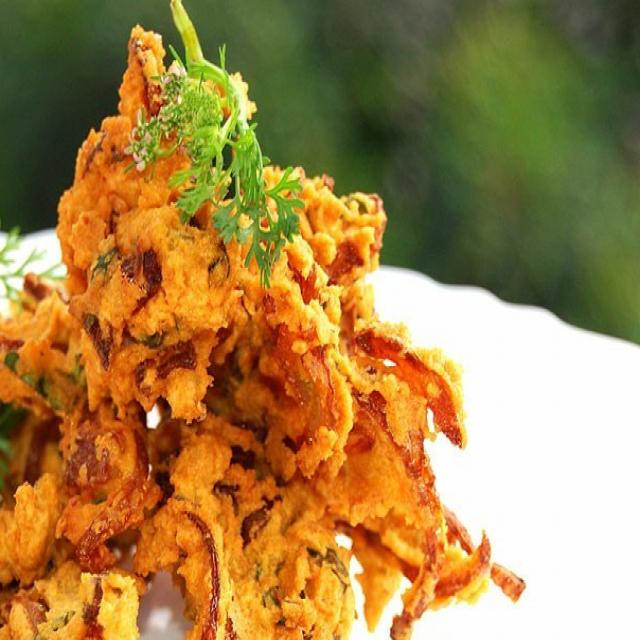Onion Pakora: (0, 18, 530, 640)
